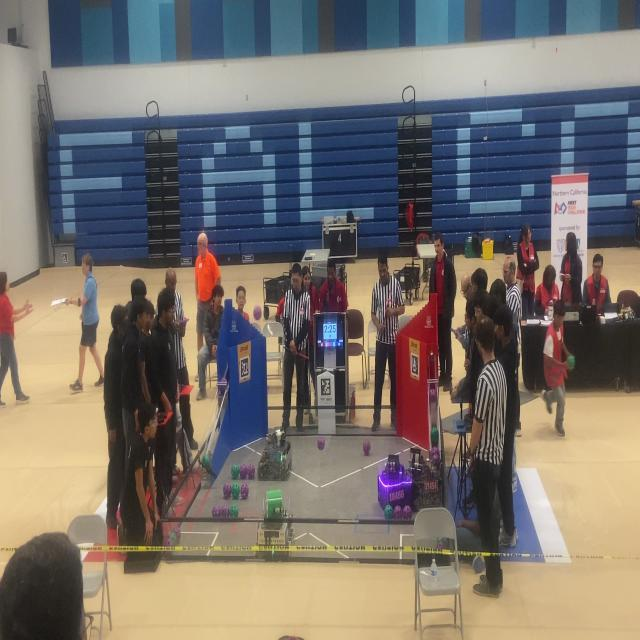artifact_green: (429, 446, 440, 465), (430, 427, 439, 447), (201, 453, 210, 471), (172, 526, 181, 542), (168, 531, 177, 546), (232, 483, 240, 499), (567, 355, 575, 370), (385, 505, 393, 519), (230, 504, 238, 518), (164, 536, 174, 547), (232, 465, 239, 479), (221, 505, 229, 517), (274, 507, 282, 516)
artifact_purple: (430, 447, 440, 465), (430, 427, 439, 446), (384, 504, 394, 520), (240, 483, 249, 500), (253, 304, 262, 320), (172, 527, 181, 542), (168, 531, 177, 546), (429, 387, 437, 403), (403, 505, 412, 519), (223, 484, 231, 499), (232, 483, 239, 499), (164, 536, 174, 547), (240, 464, 247, 479), (394, 506, 402, 519), (248, 465, 255, 479), (363, 441, 370, 455), (212, 505, 220, 517), (221, 505, 229, 517), (318, 437, 325, 450), (438, 540, 445, 550)
